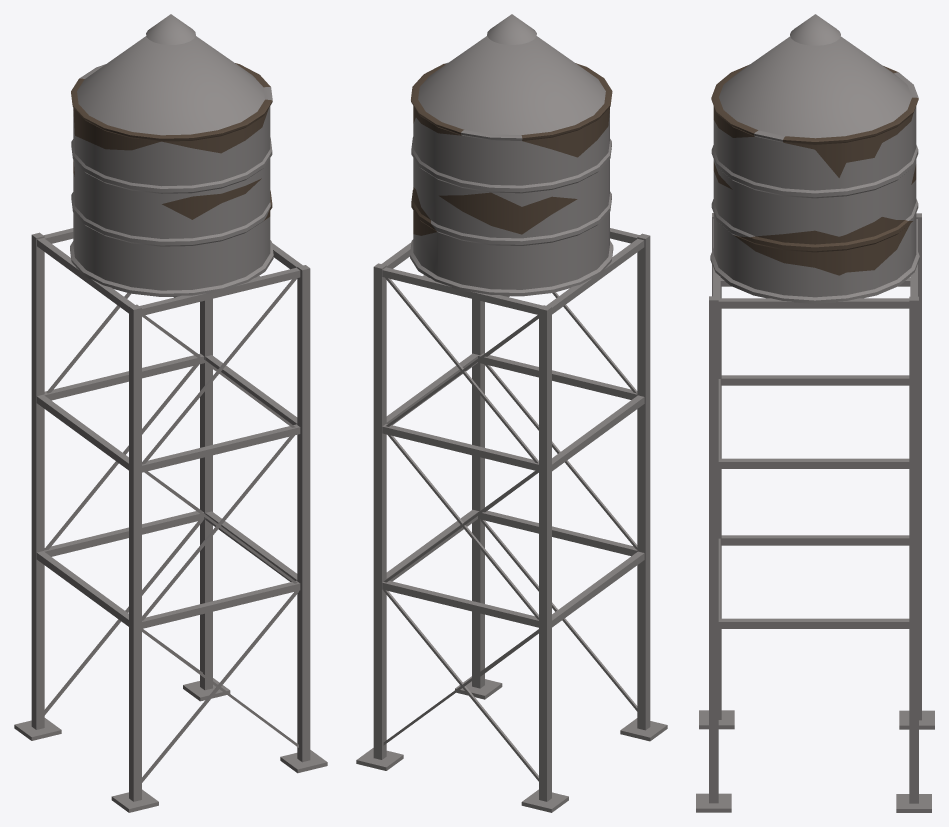
Rendered from water_tower.glb.
The picture shows the model from 3 angles, left to right: view 1: azimuth 30°, elevation 25°; view 2: azimuth 150°, elevation 25°; view 3: azimuth 270°, elevation 25°; orthographic projection. The views are drawn at different scales.
Visible parts, largest first — view 1: WaterTower; view 2: WaterTower; view 3: WaterTower.
Part boxes in pixels (x1=…): WaterTower: x1=14, y1=14, x2=327, y2=812; WaterTower: x1=356, y1=14, x2=667, y2=812; WaterTower: x1=696, y1=14, x2=934, y2=812.
Bounding box in the file's own units: 2.65 × 9.38 × 2.71.
1 material, 1 textured.
